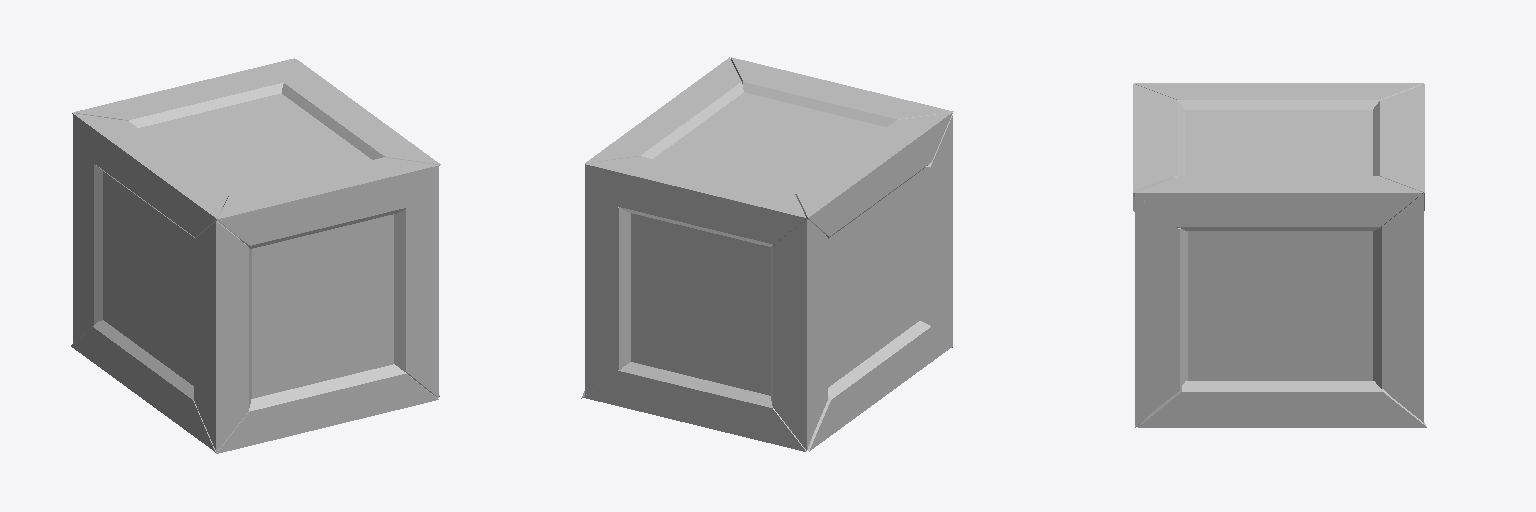
File: Kiste2_breakable.obj
3 views of the same model, side by side, from view 1: azimuth 30°, elevation 25°; view 2: azimuth 150°, elevation 25°; view 3: azimuth 270°, elevation 25° (orthographic).
Visible parts, largest first — view 1: pCube4, pCube5, pCube6, polySurface1 pCube1 polySurface8, polySurface1 pCube1 polySurface7, polySurface1 pCube1 polySurface6, polySurface1 pCube1 polySurface10, polySurface1 pCube1 polySurface9, polySurface1 pCube1 polySurface15, polySurface1 pCube1 polySurface5, polySurface1 pCube1 polySurface11, polySurface4 polySurface1 pCube1; view 2: pCube2, pCube5, pCube6, polySurface1 pCube1 polySurface11, polySurface1 pCube1 polySurface5, polySurface1 pCube1 polySurface13, polySurface1 pCube1 polySurface12, polySurface1 pCube1 polySurface6, polySurface1 pCube1 polySurface8, polySurface1 pCube1 polySurface15, polySurface1 pCube1 polySurface7, polySurface4 polySurface1 pCube1; view 3: pCube3, polySurface4 polySurface1 pCube1, pCube6, polySurface1 pCube1 polySurface14, polySurface1 pCube1 polySurface10, polySurface1 pCube1 polySurface13, polySurface1 pCube1 polySurface6, polySurface1 pCube1 polySurface7, polySurface1 pCube1 polySurface5.
Part boxes in pixels (bbox=[...]): pCube4: bbox=[252, 214, 393, 398]; pCube5: bbox=[103, 171, 194, 385]; pCube6: bbox=[139, 93, 371, 194]; polySurface1 pCube1 polySurface8: bbox=[194, 221, 251, 452]; polySurface1 pCube1 polySurface7: bbox=[217, 157, 439, 248]; polySurface1 pCube1 polySurface6: bbox=[72, 113, 228, 237]; polySurface1 pCube1 polySurface10: bbox=[394, 167, 438, 397]; polySurface1 pCube1 polySurface9: bbox=[216, 364, 438, 453]; polySurface1 pCube1 polySurface15: bbox=[71, 320, 215, 451]; polySurface1 pCube1 polySurface5: bbox=[73, 58, 294, 127]; polySurface1 pCube1 polySurface11: bbox=[73, 116, 102, 342]; polySurface4 polySurface1 pCube1: bbox=[282, 59, 440, 164]; pCube2: bbox=[631, 213, 770, 395]; pCube5: bbox=[828, 172, 919, 387]; pCube6: bbox=[654, 92, 886, 193]; polySurface1 pCube1 polySurface11: bbox=[771, 219, 827, 450]; polySurface1 pCube1 polySurface5: bbox=[585, 156, 806, 246]; polySurface1 pCube1 polySurface13: bbox=[585, 166, 630, 395]; polySurface1 pCube1 polySurface12: bbox=[586, 362, 806, 451]; polySurface1 pCube1 polySurface6: bbox=[795, 112, 952, 238]; polySurface1 pCube1 polySurface8: bbox=[920, 115, 952, 347]; polySurface1 pCube1 polySurface15: bbox=[808, 321, 952, 451]; polySurface1 pCube1 polySurface7: bbox=[731, 57, 953, 126]; polySurface4 polySurface1 pCube1: bbox=[585, 57, 743, 163]; pCube3: bbox=[1188, 231, 1372, 380]; polySurface4 polySurface1 pCube1: bbox=[1134, 176, 1422, 230]; pCube6: bbox=[1185, 110, 1372, 175]; polySurface1 pCube1 polySurface14: bbox=[1138, 381, 1426, 427]; polySurface1 pCube1 polySurface10: bbox=[1135, 194, 1187, 425]; polySurface1 pCube1 polySurface13: bbox=[1373, 193, 1423, 422]; polySurface1 pCube1 polySurface6: bbox=[1134, 83, 1423, 109]; polySurface1 pCube1 polySurface7: bbox=[1133, 84, 1184, 211]; polySurface1 pCube1 polySurface5: bbox=[1373, 84, 1424, 210].
Size of the model in its own units: 6.75 by 6.72 by 7.61.